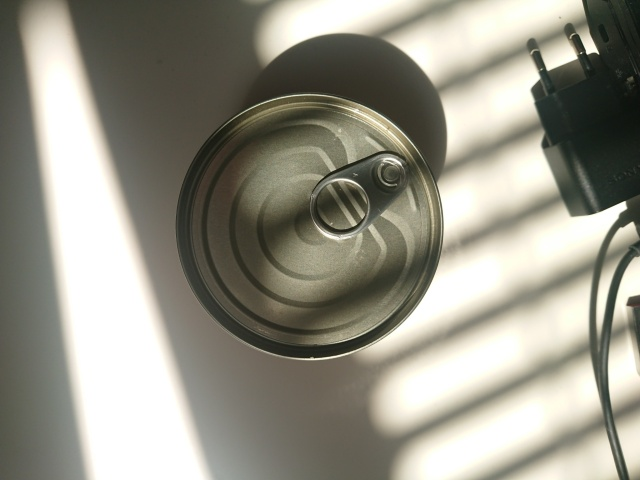Giana Tuna Salad Mexico 185g: (172, 92, 449, 367)
